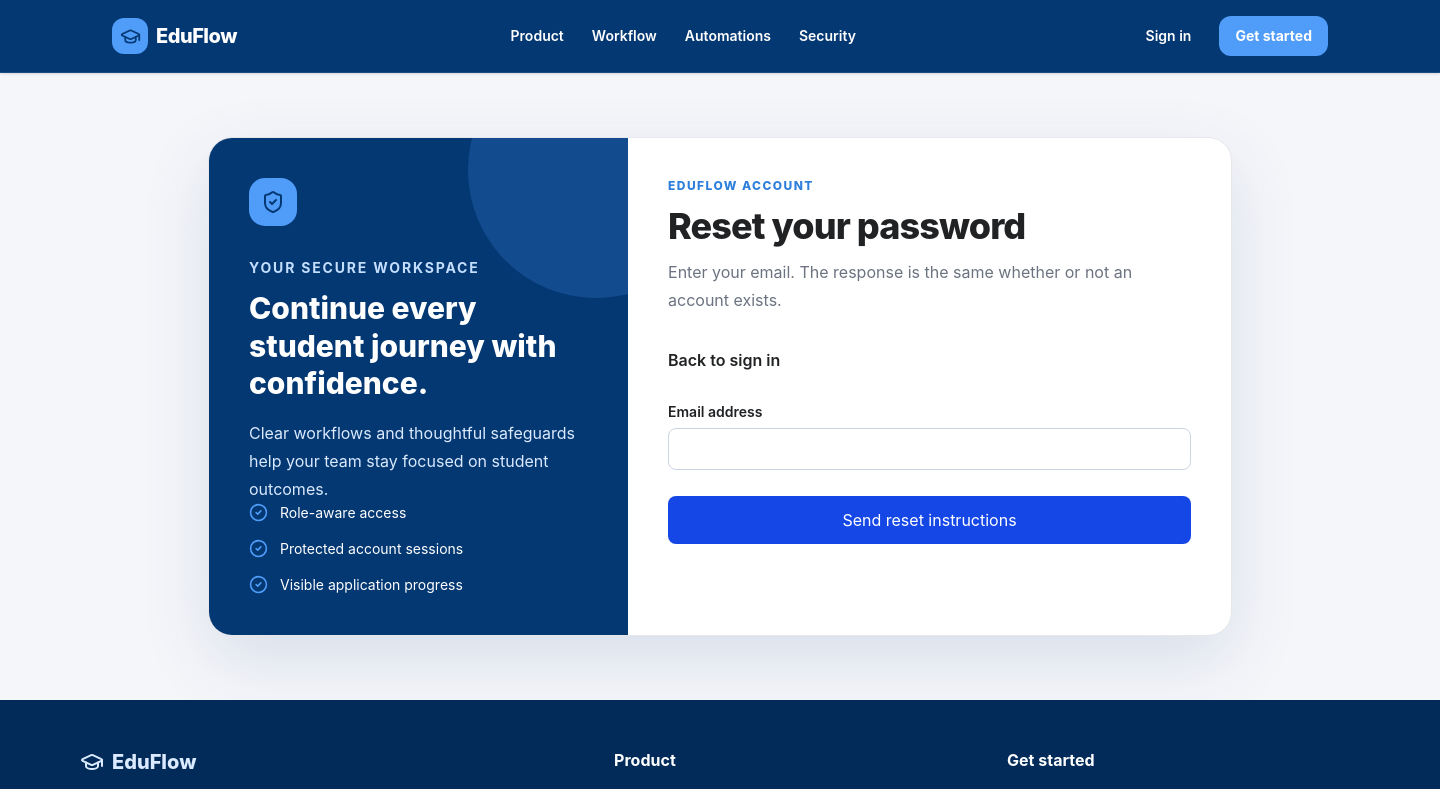
Test case: verification and recovery email interfaces › keeps forgot-password confirmation generic
Step 1. Type "unknown@example.test" into the field labelled "Email address" → [930, 449], box [668, 428, 1191, 470]
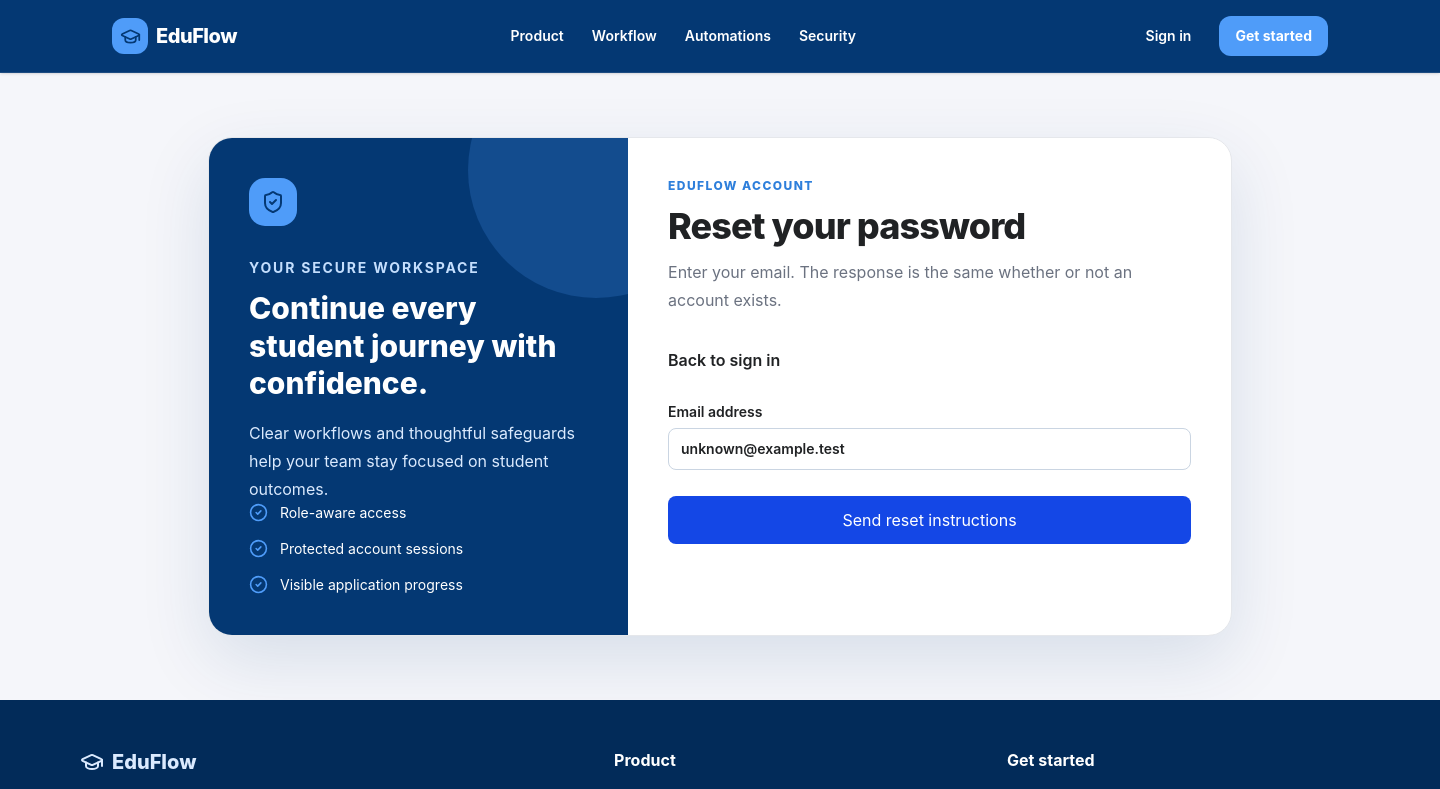
Step 2. Click the button "Send reset instructions" → [930, 520], box [668, 496, 1191, 544]
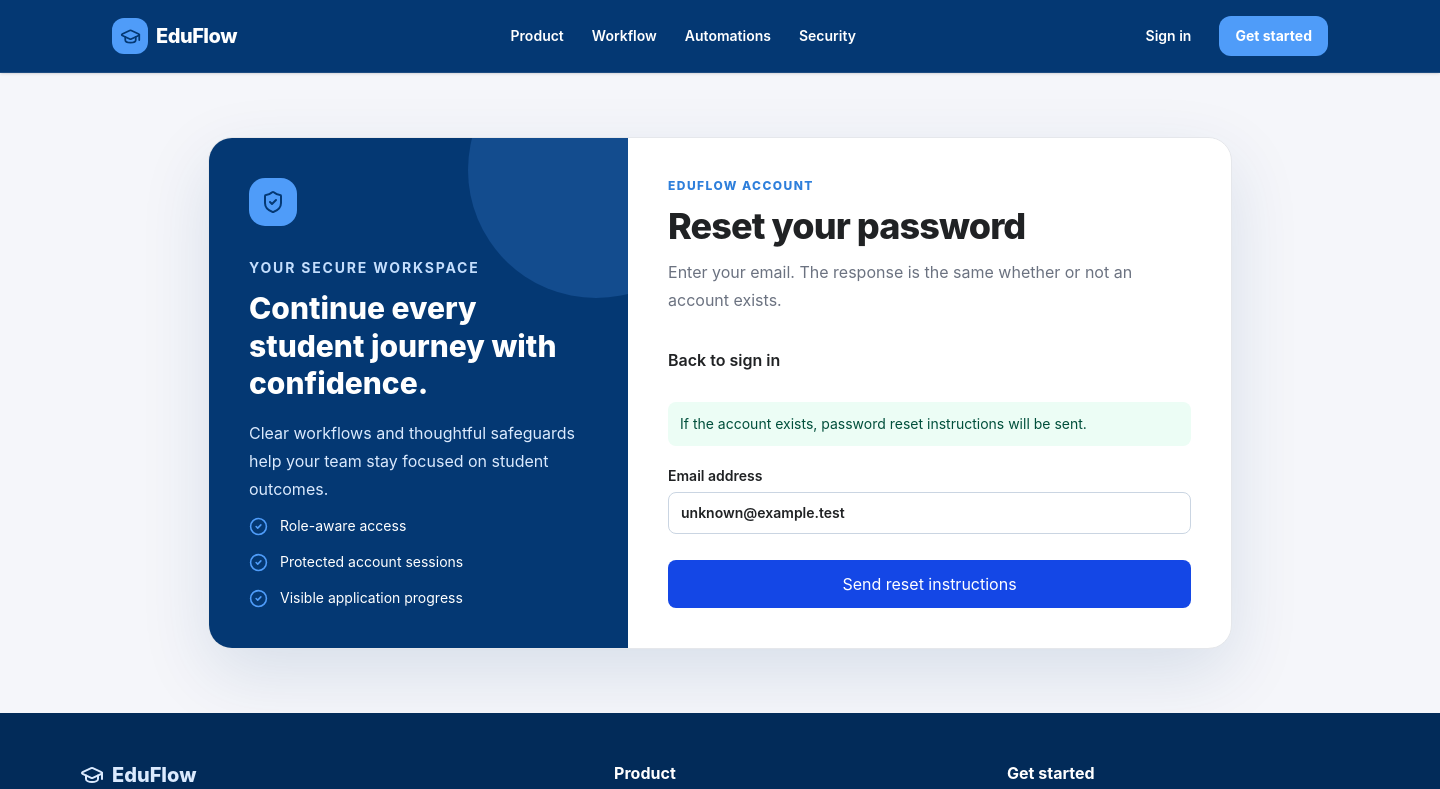
Expected: the message does not show "unknown@example.test", [668, 402, 1191, 446]
Result: the message shows "If the account exists" at [680, 415, 1087, 432]
